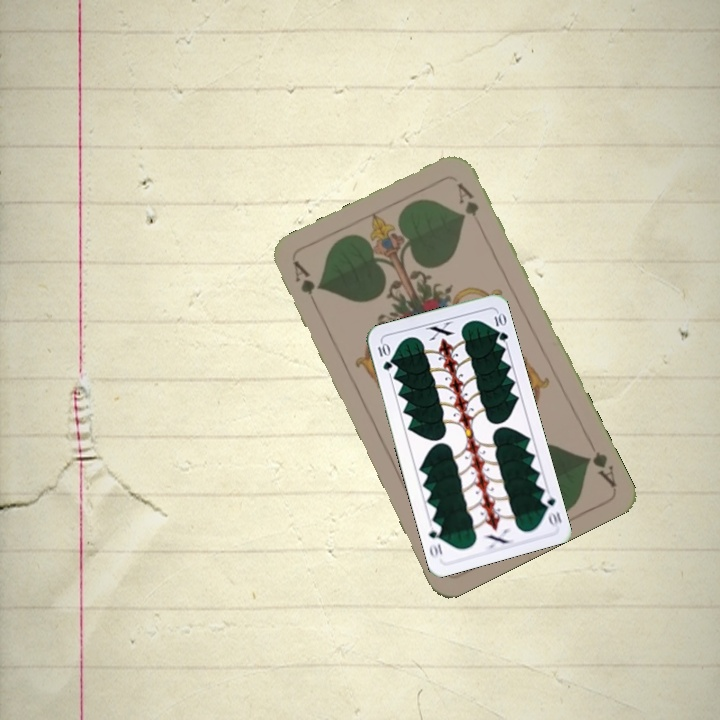G10: (537, 488, 565, 528), (374, 339, 395, 373)
GA: (580, 448, 620, 490), (289, 257, 318, 298)
